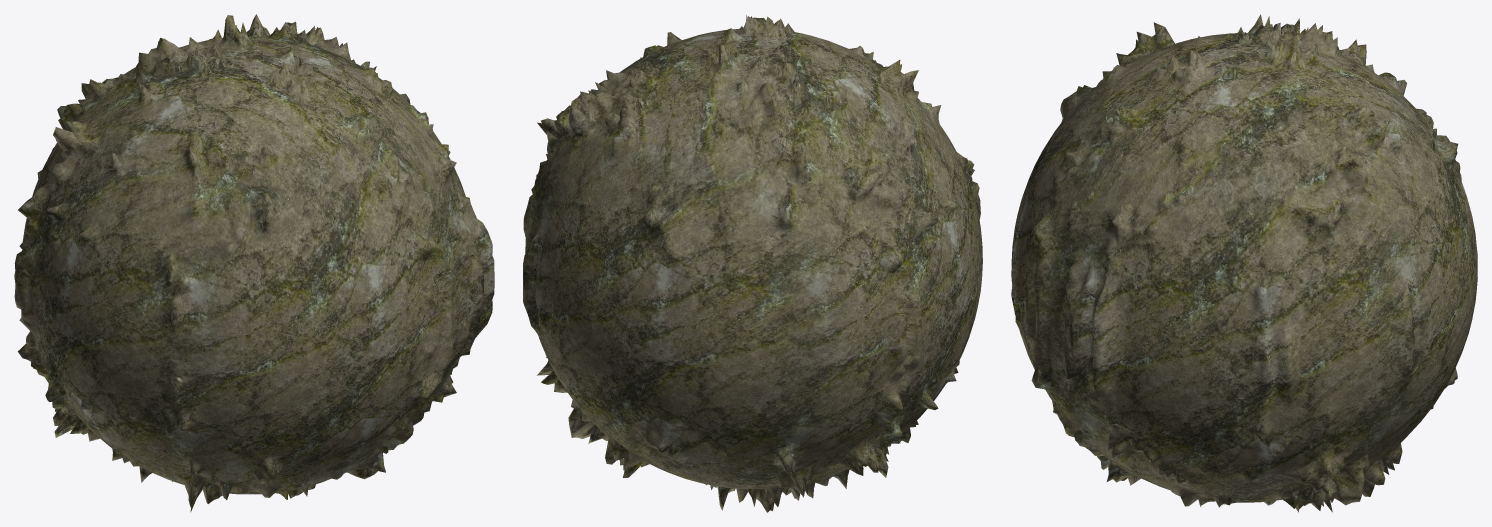
The model's file is planet.glb.
3 renders of one model, left to right at view 1: azimuth 30°, elevation 25°; view 2: azimuth 150°, elevation 25°; view 3: azimuth 270°, elevation 25°, orthographic. The views are drawn at different scales.
Parts seen in each view (by area): view 1: Sphere; view 2: Sphere; view 3: Sphere.
Part boxes in pixels (x1,y1,x2,y2): Sphere: [14, 14, 494, 512]; Sphere: [523, 15, 982, 512]; Sphere: [1011, 14, 1477, 512].
Bounding box in the file's own units: 1.53 × 1.66 × 1.48.
Materials: 1 (1 with a texture image).
